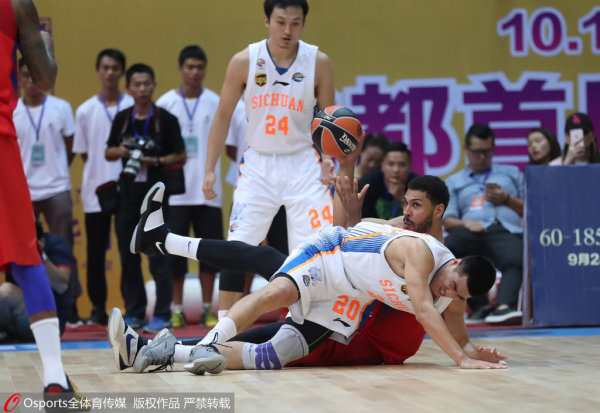10+: (1, 2, 599, 399)
down: (98, 167, 456, 375), (128, 215, 502, 372)
